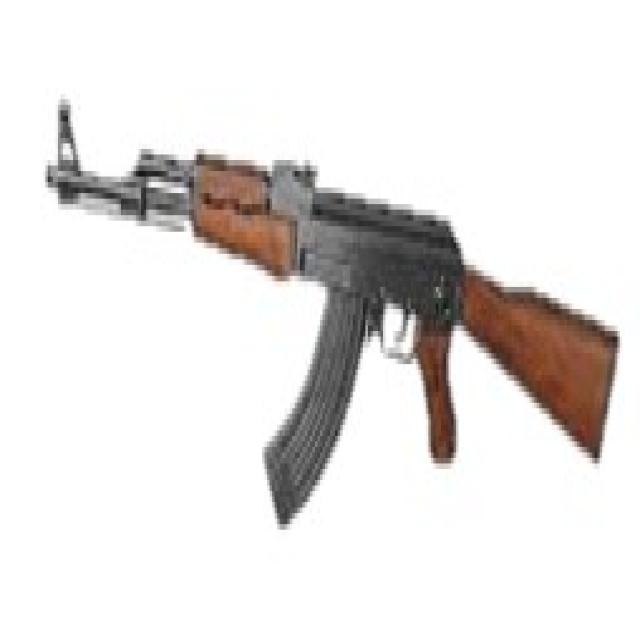rifle: (41, 94, 624, 534)
